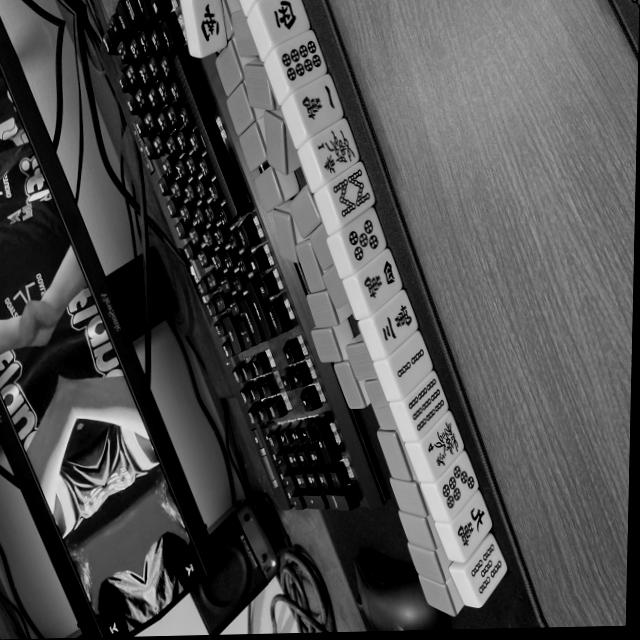ff1: (309, 119, 363, 184)
ff4: (416, 415, 469, 481)
m1: (291, 74, 346, 137)
m3: (367, 290, 420, 356)
m4: (351, 249, 406, 314)
m9: (446, 492, 494, 559)
s2: (384, 331, 437, 395)
s5: (461, 537, 510, 603)
s8: (325, 166, 377, 226)
s9: (402, 375, 451, 439)
south: (190, 0, 227, 59)
t5: (335, 209, 390, 273)
t7: (431, 454, 481, 522)
t8: (271, 29, 328, 94)
west: (256, 0, 312, 49)
